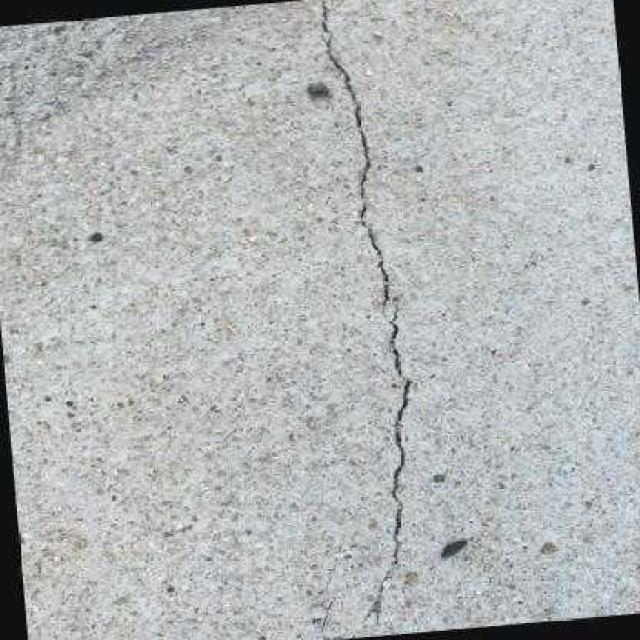D00: (317, 0, 392, 310), (367, 303, 414, 614)
